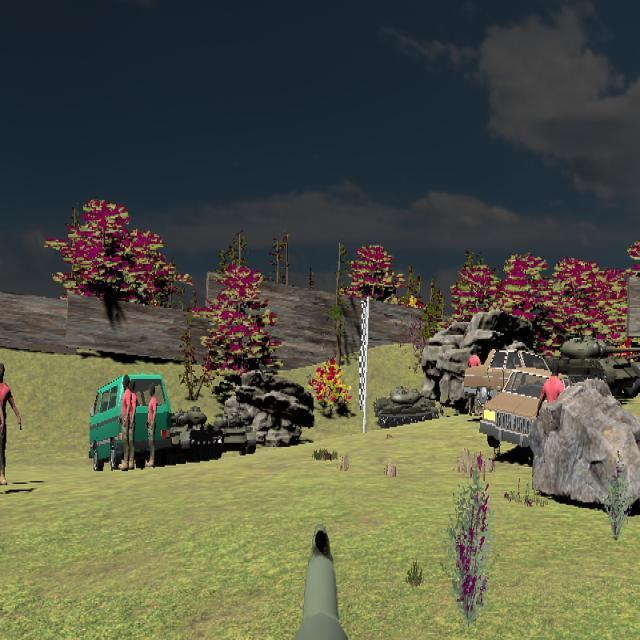Human: (0, 363, 22, 486), (146, 383, 159, 470)
Tank: (535, 335, 640, 402), (166, 406, 222, 465), (374, 384, 440, 429)
car: (478, 366, 581, 455), (88, 373, 171, 470), (461, 348, 566, 411)
